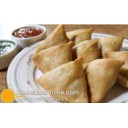samosa: (33, 56, 87, 102), (29, 41, 76, 76), (87, 57, 122, 102), (39, 24, 70, 53), (105, 51, 128, 89), (74, 37, 102, 65), (67, 26, 96, 50), (99, 36, 128, 57)
